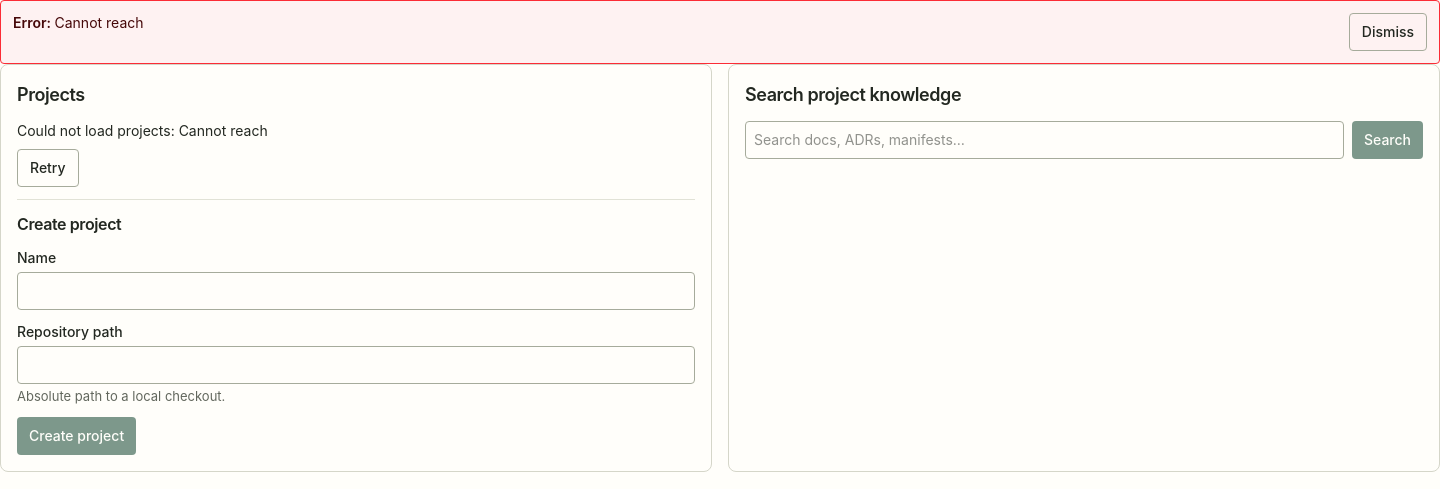
Test: ProjectsScreen › shows a load error with retry
expect the text "Could not load projects: Cannot reach" is shown: met, box x1=17 y1=122 x2=268 y2=139
Click the button "Retry".
click(48, 168)  # box x1=17 y1=149 x2=79 y2=187
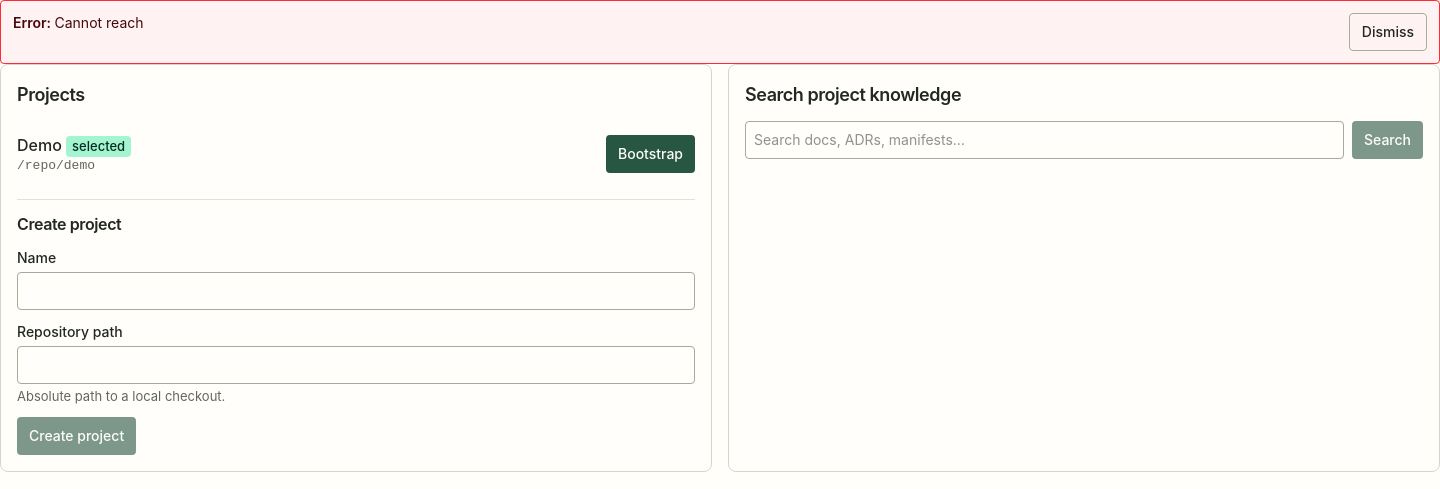
expect the text "/repo/demo" is shown: met, box x1=17 y1=158 x2=95 y2=173
